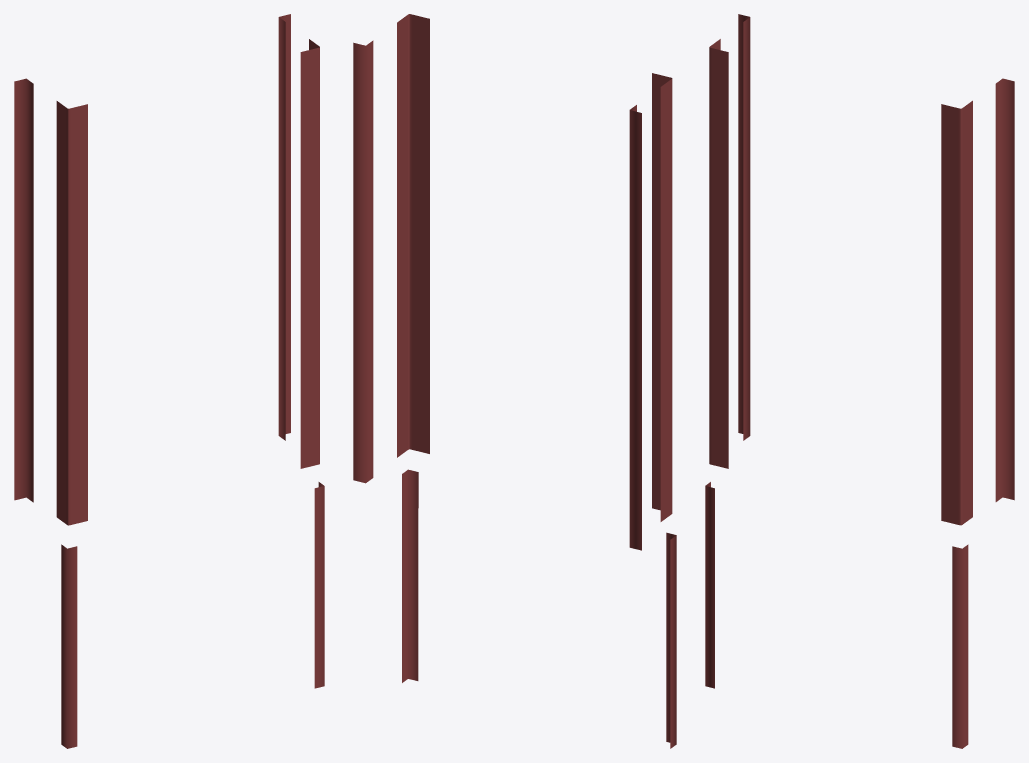
File: Decal_wallIn_A_columnhalf_large.FBX
3 views of the same model, side by side, from view 1: azimuth 30°, elevation 25°; view 2: azimuth 150°, elevation 25°; view 3: azimuth 330°, elevation 25° (orthographic). The views are drawn at different scales.
Visible parts, largest first — view 1: Decal_wallIn_A_columnhalf_large; view 2: Decal_wallIn_A_columnhalf_large; view 3: Decal_wallIn_A_columnhalf_large.
Part boxes in pixels (x1,y1,x2,y2): Decal_wallIn_A_columnhalf_large: (14, 14, 324, 748); Decal_wallIn_A_columnhalf_large: (353, 14, 676, 748); Decal_wallIn_A_columnhalf_large: (705, 14, 1014, 748).
Size of the model in its own units: 115 by 253 by 30.96.
